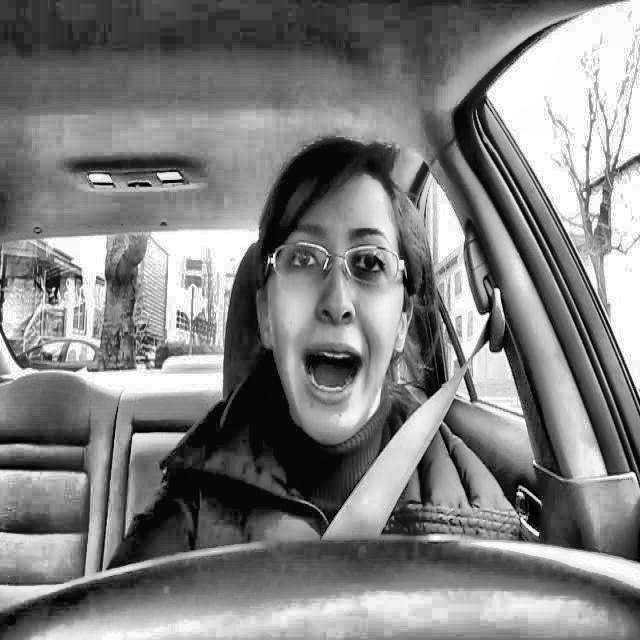open_eyes: (342, 243, 396, 284), (277, 239, 329, 281)
open_mouth: (286, 331, 377, 413)
